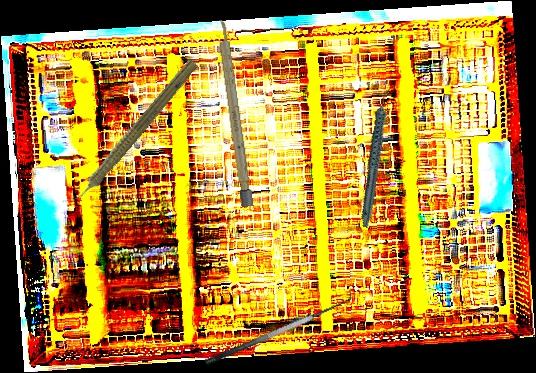Handpiece: (59, 53, 202, 216), (333, 87, 420, 229)
Scalpel Handle: (215, 18, 254, 208)
Spatula Surgical: (198, 286, 357, 367)
